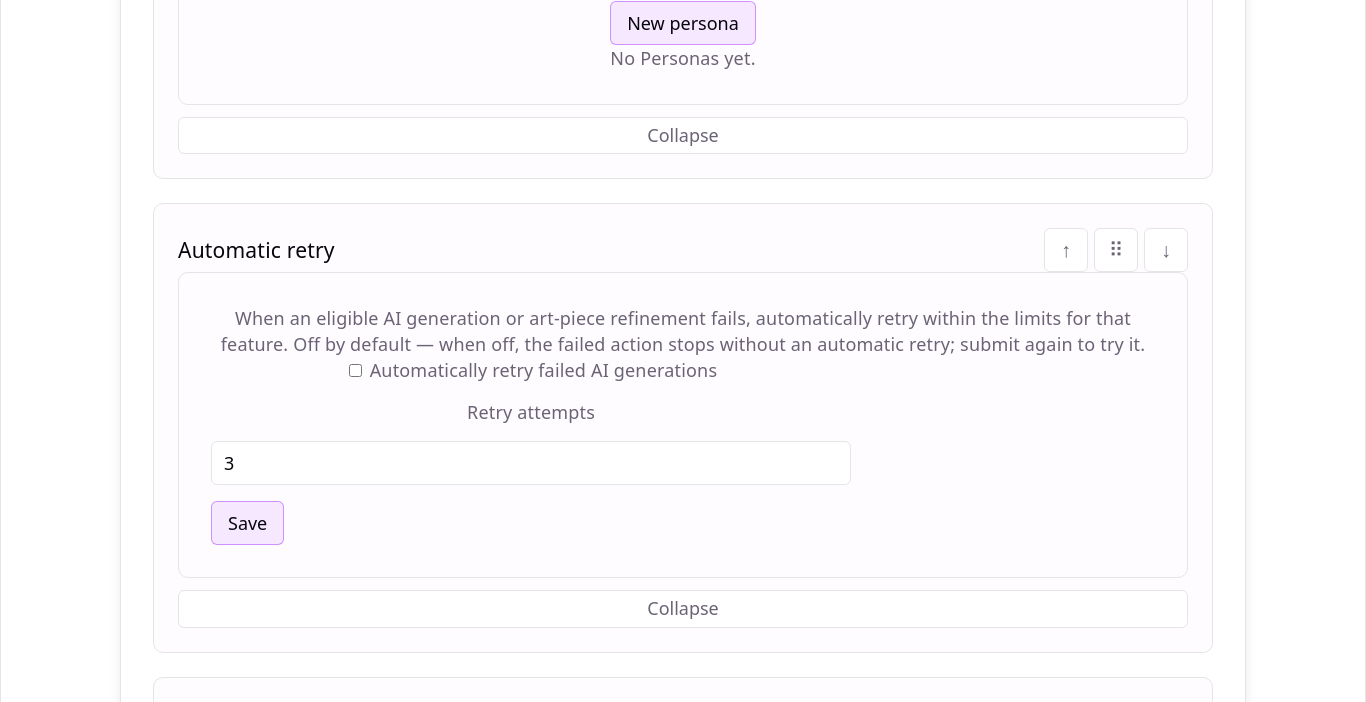
Scenario: AccountSettings › loads and saves the automatic retry setting
(page scrolled)
Expected: the text "when off, the failed action stops without an automatic retry; submit again to try it." is shown, x1=221 y1=306 x2=1145 y2=356
Expected: the number field labelled "Retry attempts" holds "3", x1=211 y1=441 x2=851 y2=485
Click the checkbox at (355, 371), box x1=349 y1=364 x2=362 y2=377
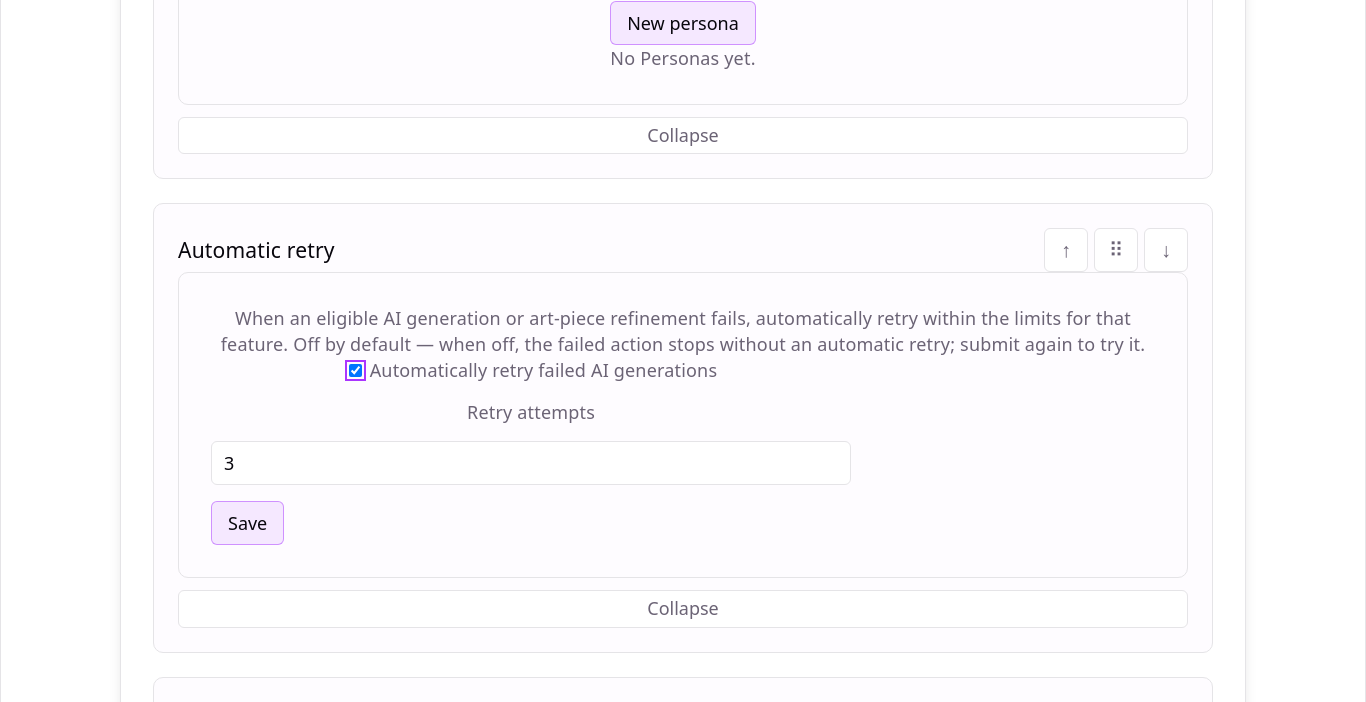
Replace the text in the number field labelled "Retry attempts" with "5" at (531, 463), box x1=211 y1=441 x2=851 y2=485
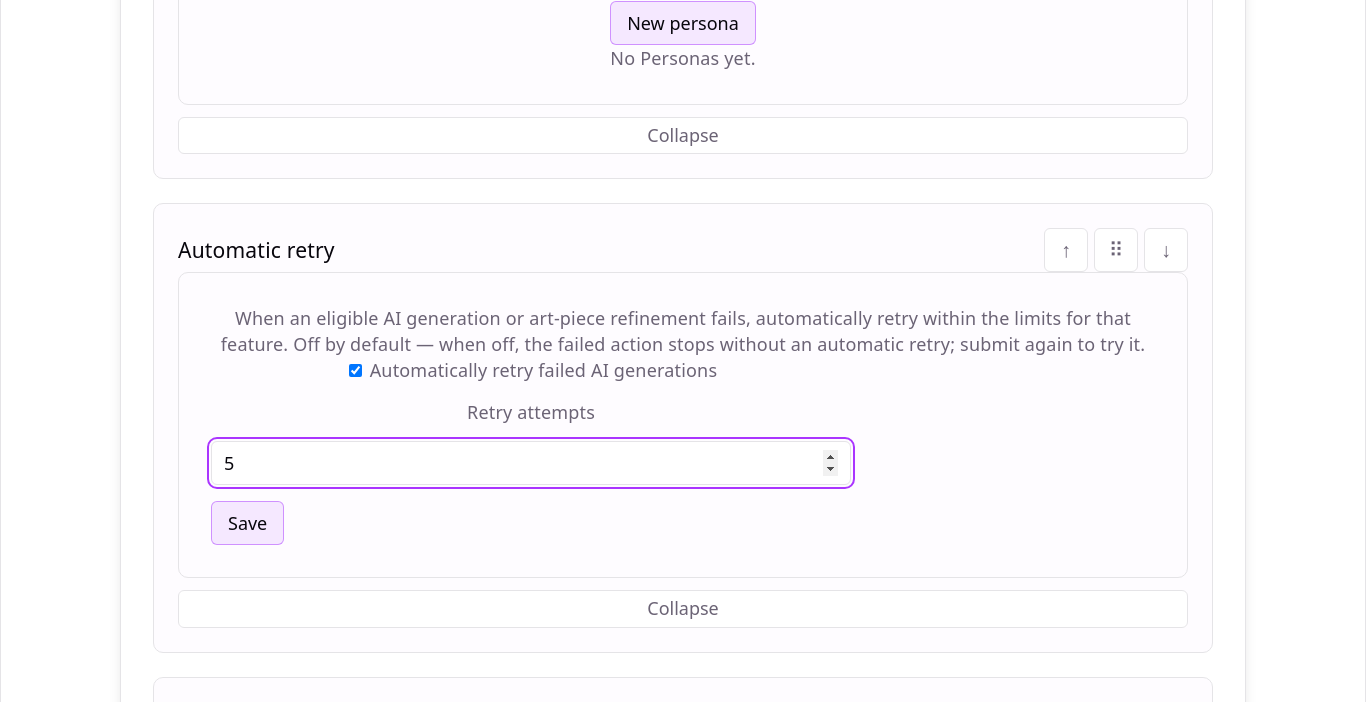
Click the button "Save" at (248, 523), box x1=211 y1=501 x2=284 y2=545
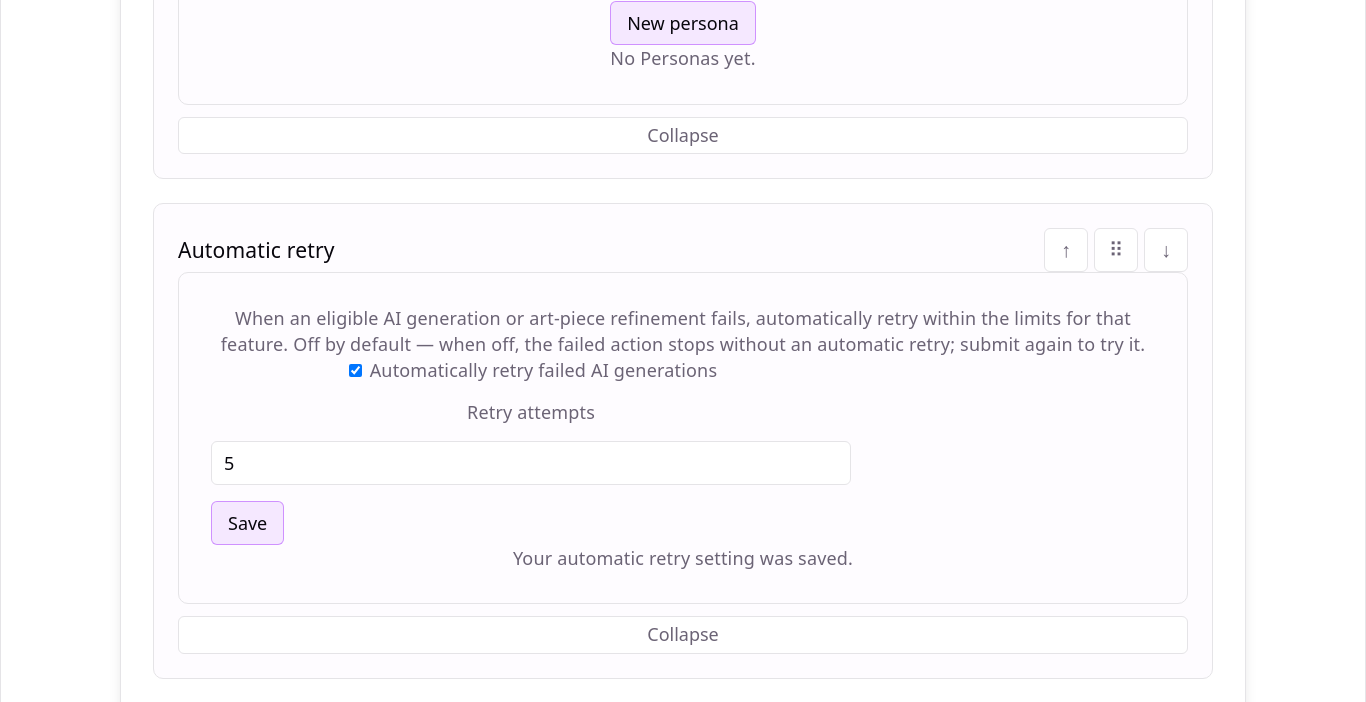
Result: the text "Your automatic retry setting was saved." is shown at x1=513 y1=546 x2=853 y2=570
